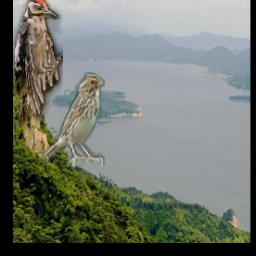Sparrow: (42, 72, 105, 167)
Woodpecker: (13, 0, 63, 127)
